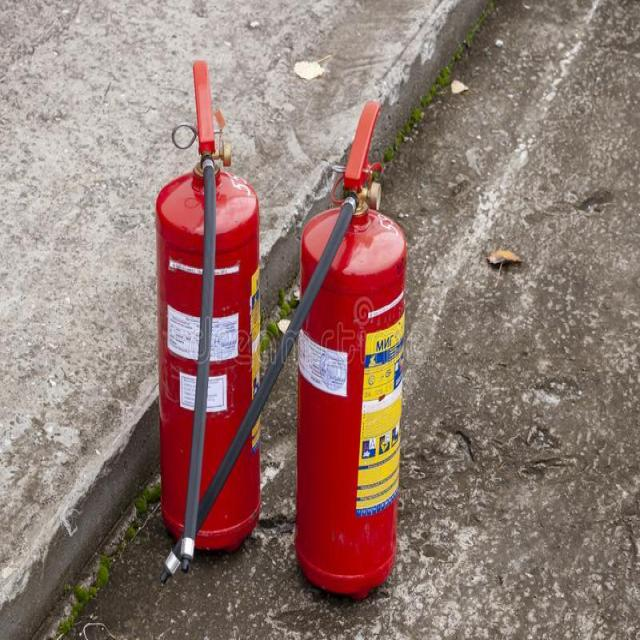fire_extinguisher: (158, 98, 412, 602), (151, 50, 264, 561)
